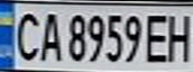5: (103, 11, 127, 64)
8: (63, 10, 87, 63)
9: (121, 11, 148, 64), (84, 11, 106, 63)
A: (33, 8, 63, 62)
C: (6, 8, 42, 62)
E: (142, 11, 175, 64)
H: (163, 10, 193, 63)
